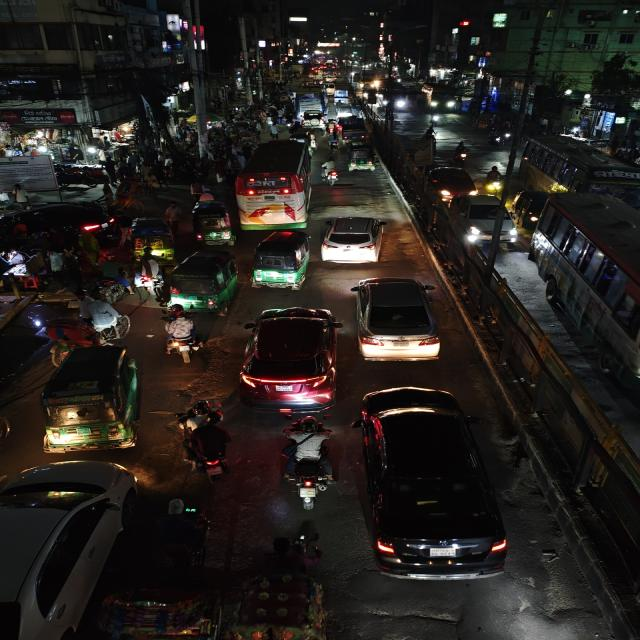bus: (536, 195, 640, 401), (520, 134, 640, 216), (232, 138, 317, 232), (294, 87, 326, 115)
car: (351, 381, 509, 587), (0, 457, 143, 639), (236, 304, 346, 414), (348, 274, 445, 362), (0, 200, 120, 240), (318, 212, 392, 268), (448, 194, 520, 248), (418, 165, 478, 201)
cng: (36, 344, 144, 456), (167, 250, 240, 312), (249, 232, 313, 292), (127, 217, 177, 262), (190, 202, 234, 246), (345, 142, 378, 174), (301, 110, 326, 129)
motorcycle: (170, 399, 236, 487), (278, 420, 338, 510), (156, 311, 210, 362), (482, 163, 507, 195), (321, 154, 340, 186), (486, 127, 510, 149), (453, 139, 472, 164)
pedestrian: (185, 180, 207, 202)
pickup_van: (336, 114, 371, 146)
rickshaw: (44, 311, 133, 345), (126, 218, 176, 262)
